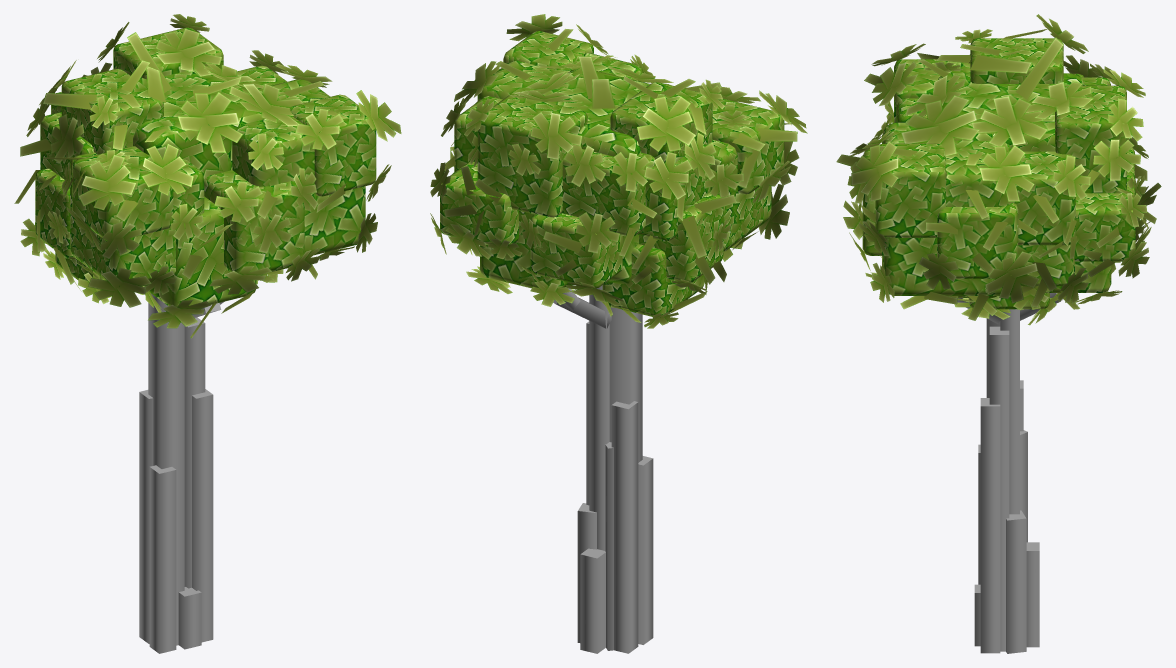
Rendered from SM_Tree_01_B.fbx.
The picture shows the model from 3 angles, left to right: view 1: azimuth 30°, elevation 25°; view 2: azimuth 150°, elevation 25°; view 3: azimuth 270°, elevation 25°; orthographic projection.
Visible parts, largest first — view 1: polySurface606; view 2: polySurface606; view 3: polySurface606.
Part boxes in pixels (x1,y1,x2,y2): polySurface606: [14, 14, 401, 653]; polySurface606: [430, 14, 807, 653]; polySurface606: [836, 14, 1161, 653].
Size of the model in its own units: 157 by 281 by 140.
